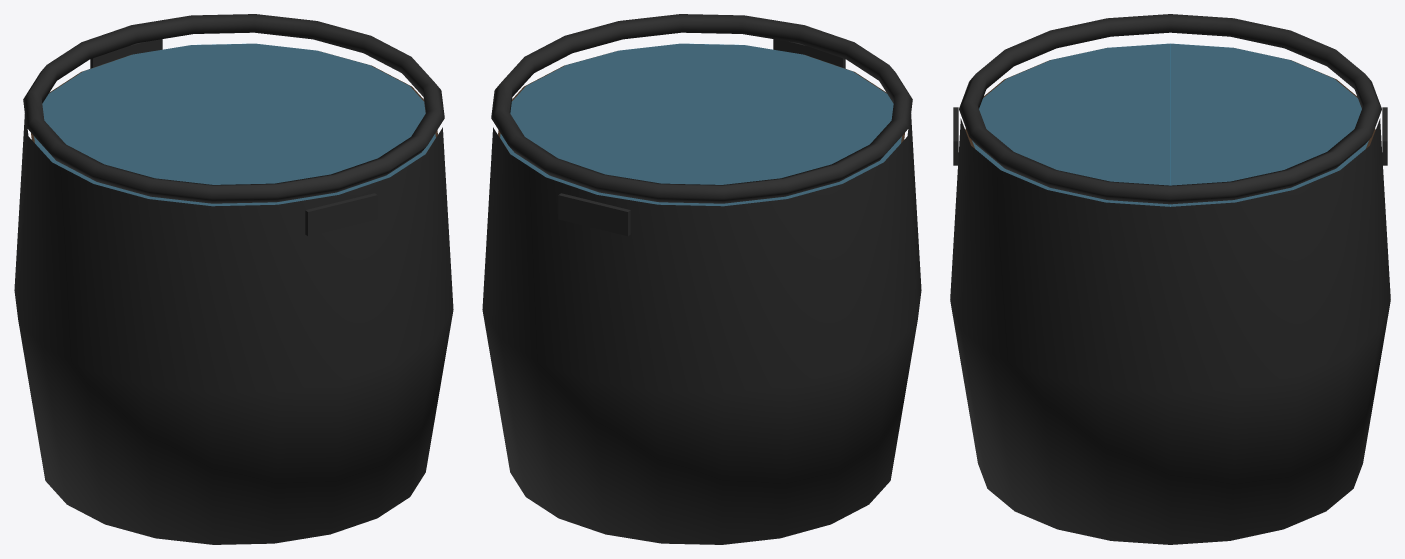
File: vessel--generic_fabric_25l.glb
3 renders of one model, left to right at view 1: azimuth 30°, elevation 25°; view 2: azimuth 150°, elevation 25°; view 3: azimuth 270°, elevation 25°, orthographic.
Visible parts, largest first — view 1: pot_body, soil_surface, soil_wet, pot_rim, pot_handles; view 2: pot_body, soil_surface, soil_wet, pot_rim, pot_handles; view 3: pot_body, soil_surface, soil_wet, pot_rim, pot_handles.
Part boxes in pixels (<box>): pot_body: <box>14,114,453,544</box>; soil_surface: <box>31,43,437,206</box>; soil_wet: <box>34,43,435,206</box>; pot_rim: <box>23,14,444,203</box>; pot_handles: <box>90,39,377,236</box>; pot_body: <box>482,114,921,544</box>; soil_surface: <box>498,43,904,206</box>; soil_wet: <box>500,43,901,206</box>; pot_rim: <box>491,14,912,203</box>; pot_handles: <box>558,39,845,236</box>; pot_body: <box>950,118,1390,544</box>; soil_surface: <box>965,43,1375,206</box>; soil_wet: <box>972,43,1368,206</box>; pot_rim: <box>959,14,1381,204</box>; pot_handles: <box>953,107,1387,165</box>.
Size of the model in its own units: 0.3296 by 0.2996 by 0.3296.
